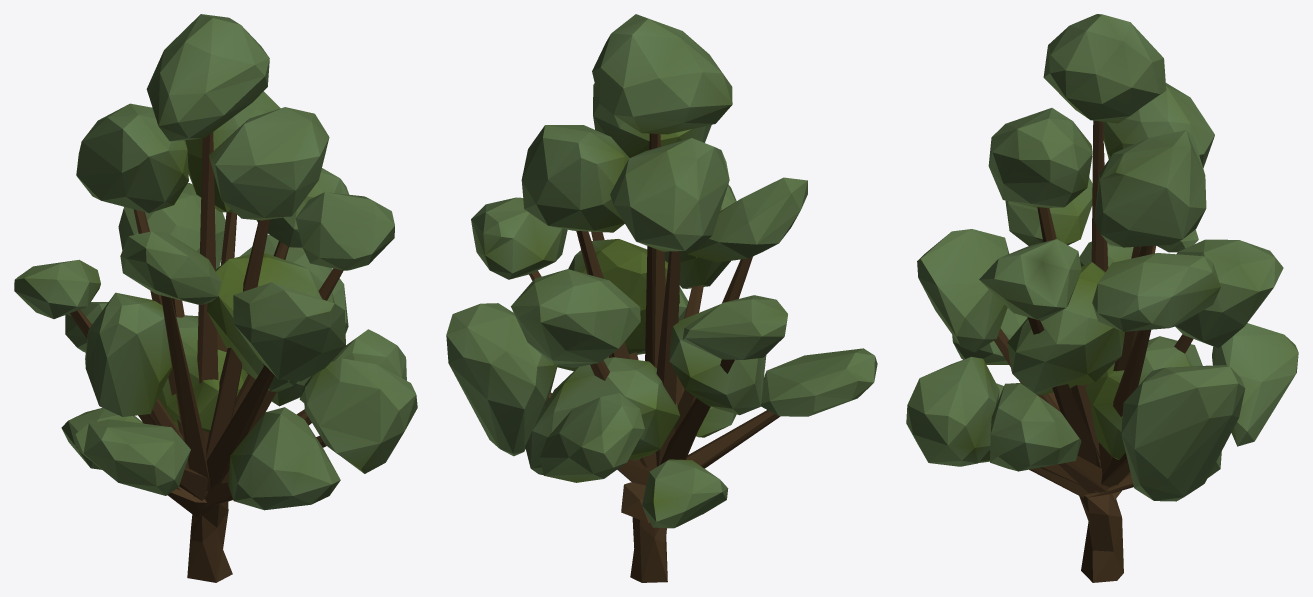
File: pine_high.glb
The picture shows the model from 3 angles, left to right: view 1: azimuth 30°, elevation 25°; view 2: azimuth 150°, elevation 25°; view 3: azimuth 270°, elevation 25°; orthographic projection.
Visible parts, largest first — view 1: pine_high; view 2: pine_high; view 3: pine_high.
Boxes of the visible parts, left/top/right/bottom form: pine_high: left=14, top=14, right=417, bottom=582; pine_high: left=446, top=14, right=877, bottom=582; pine_high: left=906, top=14, right=1298, bottom=582.
Bounding box in the file's own units: 1.75 × 2.8 × 1.77.
